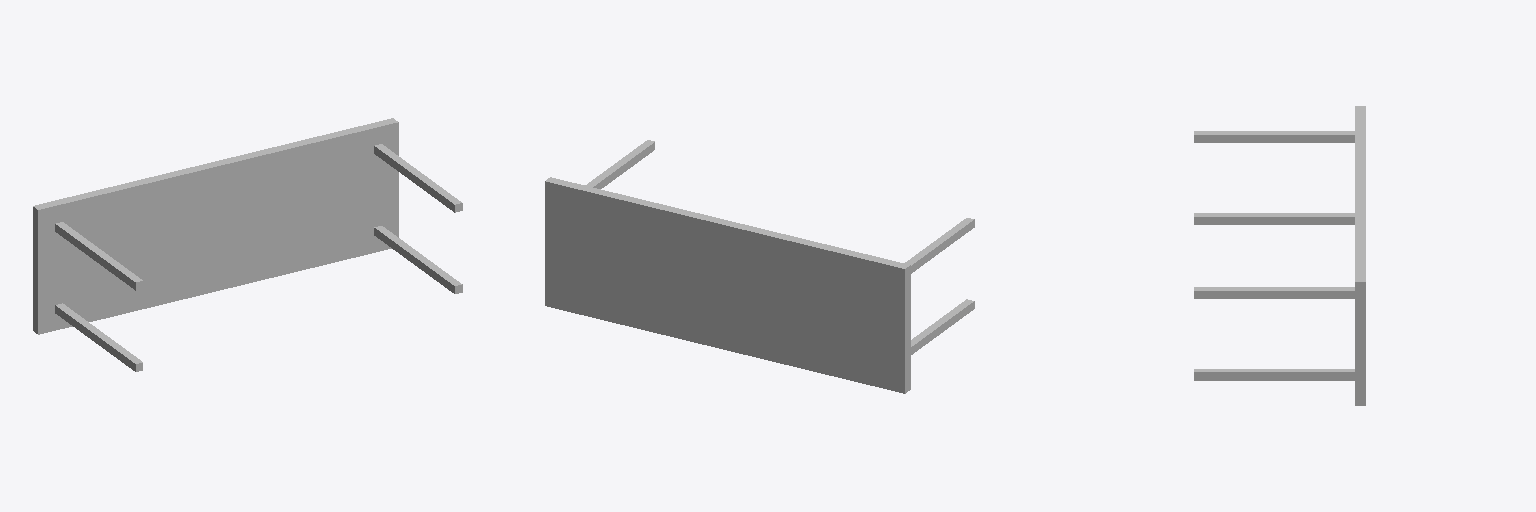
File: random_table26.obj
3 renders of one model, left to right at view 1: azimuth 30°, elevation 25°; view 2: azimuth 150°, elevation 25°; view 3: azimuth 270°, elevation 25°, orthographic.
Visible parts, largest first — view 1: Table_Cube.325, TableLeg0_Cube.326, TableLeg2_Cube.328, TableLeg3_Cube.329, TableLeg1_Cube.327; view 2: Table_Cube.325, TableLeg1_Cube.327, TableLeg3_Cube.329, TableLeg0_Cube.326; view 3: Table_Cube.325, TableLeg0_Cube.326, TableLeg1_Cube.327, TableLeg2_Cube.328, TableLeg3_Cube.329.
Part boxes in pixels (x1,y1,x2,y2): Table_Cube.325: (33,118,398,334); TableLeg0_Cube.326: (374,144,462,212); TableLeg2_Cube.328: (374,226,462,293); TableLeg3_Cube.329: (55,303,142,371); TableLeg1_Cube.327: (55,222,142,290); Table_Cube.325: (545,177,910,393); TableLeg1_Cube.327: (904,218,974,273); TableLeg3_Cube.329: (911,299,974,354); TableLeg0_Cube.326: (585,140,654,188); Table_Cube.325: (1355,106,1365,405); TableLeg0_Cube.326: (1194,287,1354,298); TableLeg1_Cube.327: (1194,131,1354,142); TableLeg2_Cube.328: (1194,369,1354,380); TableLeg3_Cube.329: (1194,213,1354,224).
Size of the model in its own units: 12.53 by 4.14 by 5.2.